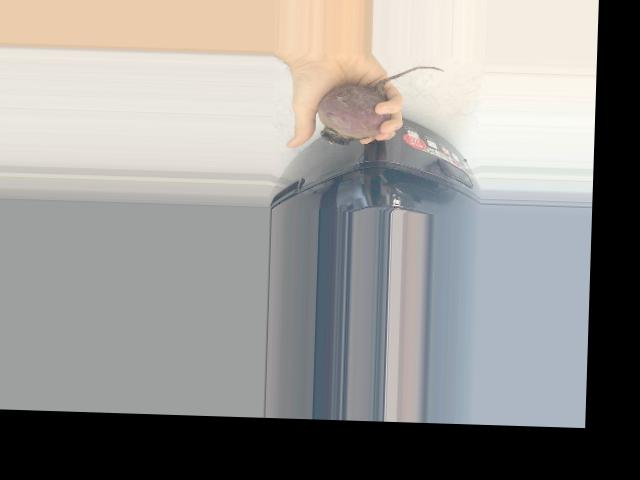beet: (317, 62, 444, 147)
